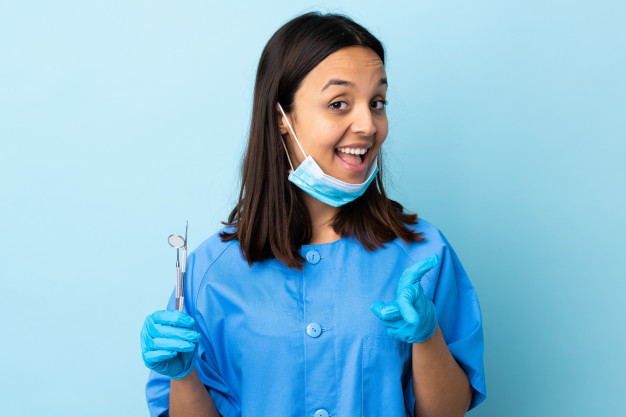mask_weared_incorrect: (273, 56, 394, 208)
